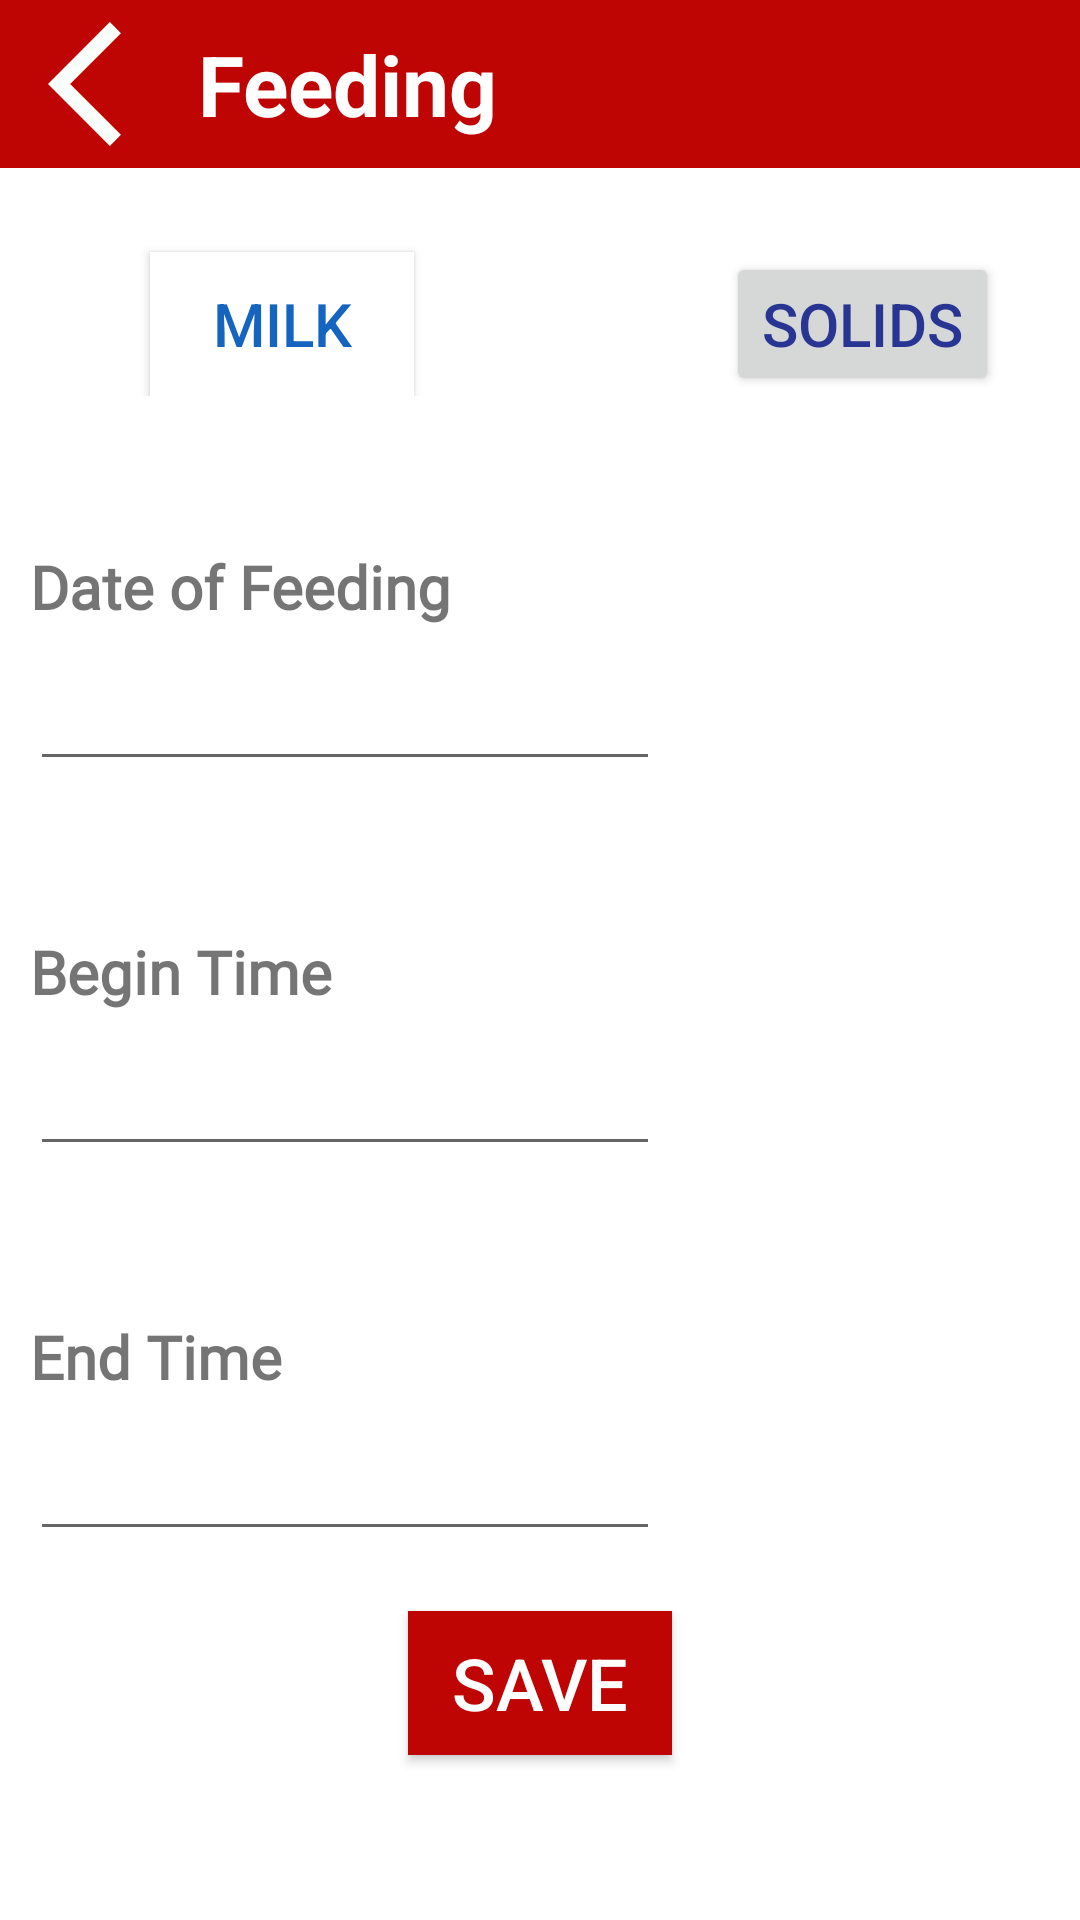

Screen size 1080×1920. Icon name, then its center in pixels as (x,y):
arrow back: (84,84)
